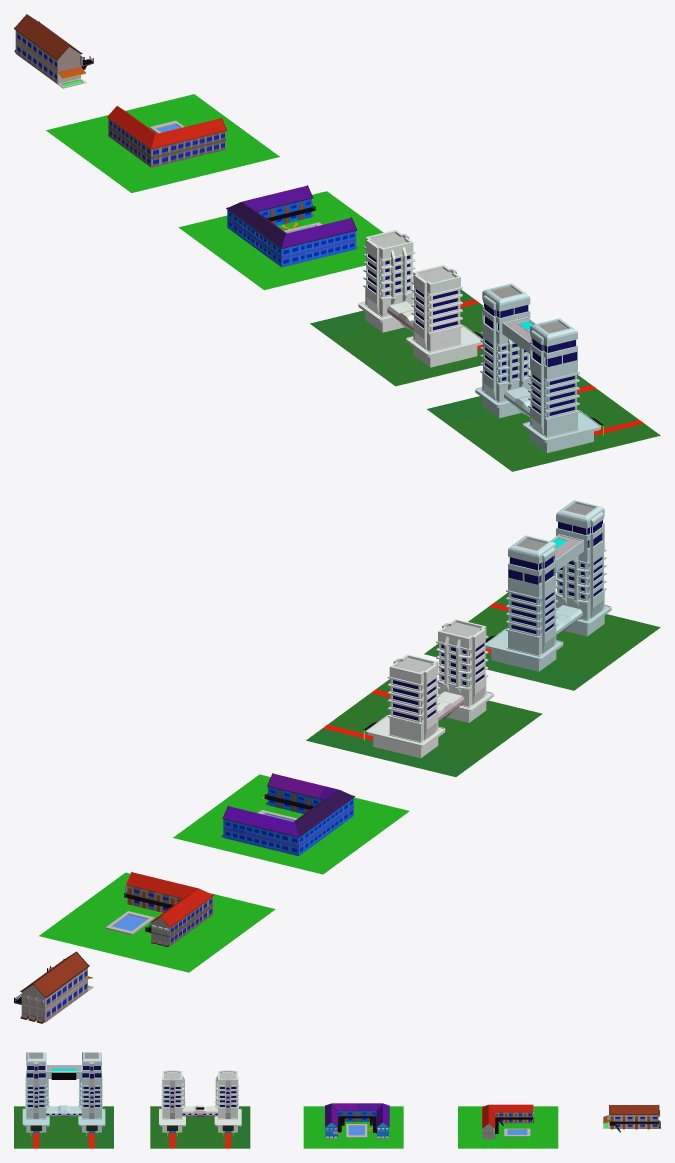
The model's file is 1_Motal new.fbx.
The picture shows the model from 3 angles, top to bottom: view 1: azimuth 30°, elevation 25°; view 2: azimuth 150°, elevation 25°; view 3: azimuth 270°, elevation 25°; orthographic projection. The views are drawn at different scales.
Parts seen in each view (by area): view 1: Cube, Cube.007, Plane.003, Plane, Cube.019, Plane.004, Plane.001, Cube.012, Cube.009; view 2: Cube, Cube.007, Plane.003, Plane.001, Plane.004, Cube.019, Plane, Cube.012, Cube.009; view 3: Cube, Cube.007, Plane.003, Plane.001, Plane, Plane.004, Cube.019, Cube.012, Cube.009.
Boxes of the visible parts, x1,y1,x2,y2 form: Cube: (475, 283, 603, 452); Cube.007: (358, 230, 482, 367); Plane.003: (46, 94, 279, 192); Plane: (427, 374, 660, 471); Cube.019: (226, 185, 358, 267); Plane.004: (178, 191, 383, 289); Plane.001: (310, 289, 483, 386); Cube.012: (107, 106, 226, 167); Cube.009: (14, 14, 93, 88); Cube: (485, 500, 611, 671); Cube.007: (363, 619, 493, 758); Plane.003: (39, 872, 275, 972); Plane.001: (306, 679, 542, 777); Plane.004: (173, 774, 409, 874); Cube.019: (221, 773, 355, 856); Plane: (424, 592, 660, 690); Cube.012: (105, 871, 214, 946); Cube.009: (14, 951, 93, 1023); Cube: (22, 1052, 105, 1136); Cube.007: (159, 1070, 241, 1136); Plane.003: (458, 1106, 558, 1148); Plane.001: (150, 1106, 250, 1148); Plane: (14, 1106, 113, 1148); Plane.004: (303, 1106, 403, 1148); Cube.019: (325, 1103, 389, 1138); Cube.012: (482, 1104, 534, 1139); Cube.009: (603, 1105, 660, 1132).
Size of the model in its own units: 1002 by 756 by 6476.
